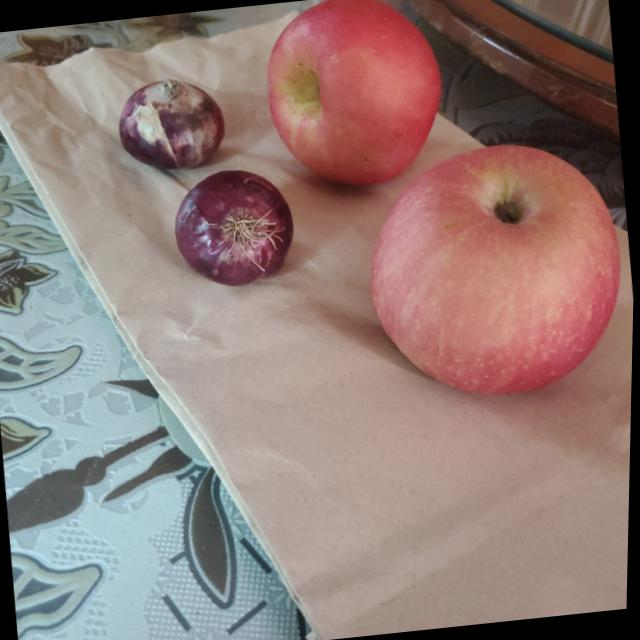apple: (362, 131, 638, 403), (261, 0, 455, 186)
onion: (170, 164, 302, 288), (115, 70, 229, 174)
